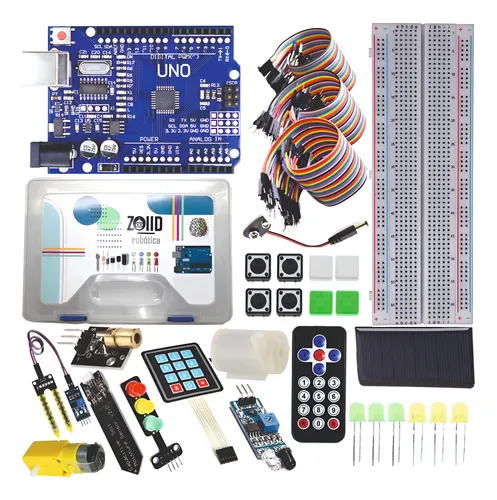Arduino: (6, 23, 251, 176)
